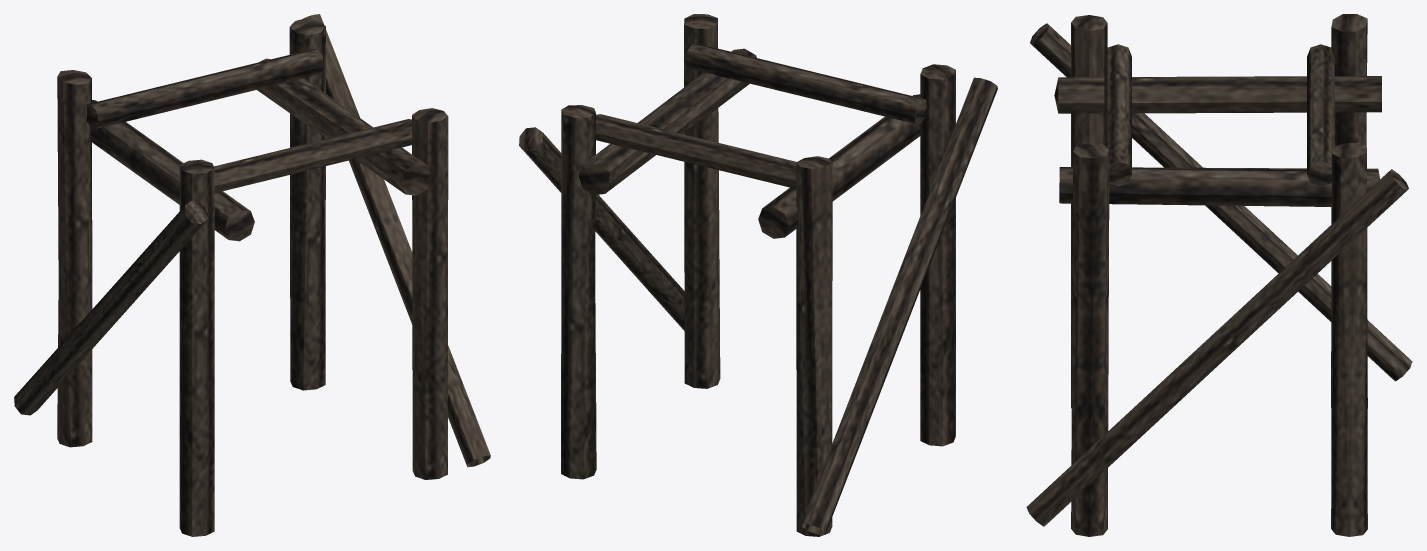
The model's file is Pier01_End.obj.
3 renders of one model, left to right at view 1: azimuth 30°, elevation 25°; view 2: azimuth 150°, elevation 25°; view 3: azimuth 270°, elevation 25°, orthographic. The views are drawn at different scales.
Visible parts, largest first — view 1: Pier01End; view 2: Pier01End; view 3: Pier01End.
Boxes of the visible parts, x1,y1,x2,y2 form: Pier01End: (14,14,490,536); Pier01End: (519,14,997,536); Pier01End: (1026,14,1412,536).
Size of the model in its own units: 5.43 by 6.27 by 5.64.
